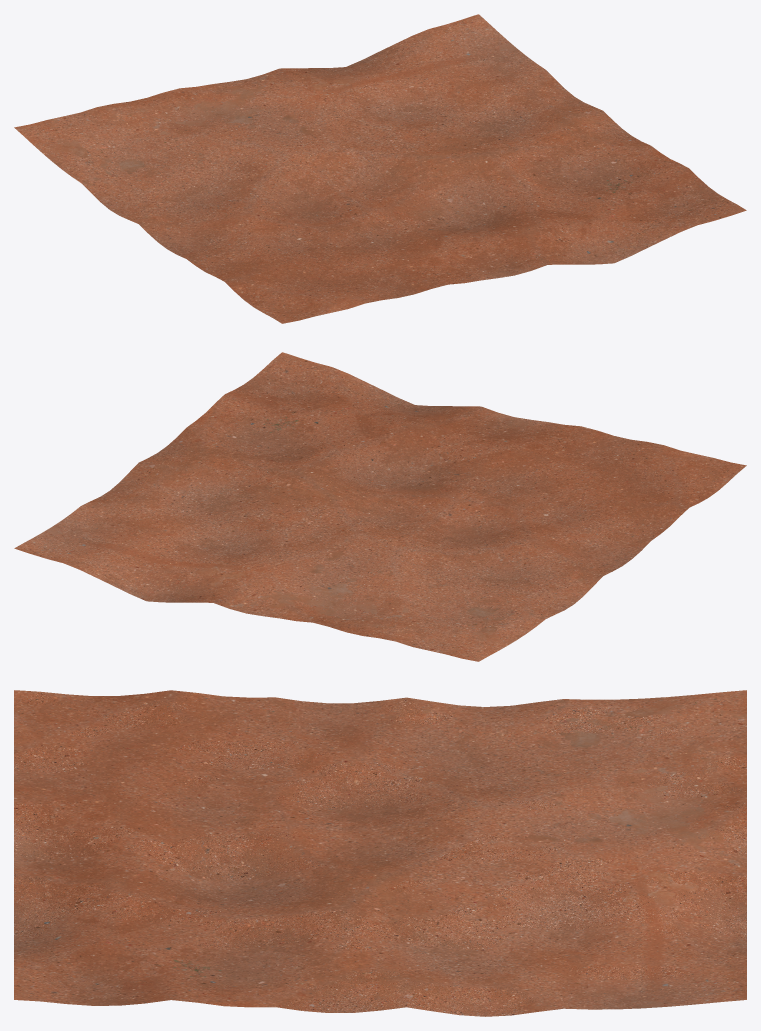
Rendered from Ground_flat_01_M01.fbx.
3 renders of one model, top to bottom at view 1: azimuth 30°, elevation 25°; view 2: azimuth 150°, elevation 25°; view 3: azimuth 270°, elevation 25°, orthographic. The views are drawn at different scales.
Visible parts, largest first — view 1: Ground_flat_01_M01_LOD0; view 2: Ground_flat_01_M01_LOD0; view 3: Ground_flat_01_M01_LOD0.
Part boxes in pixels (x1,y1,x2,y2): Ground_flat_01_M01_LOD0: [14, 14, 746, 323]; Ground_flat_01_M01_LOD0: [14, 352, 746, 661]; Ground_flat_01_M01_LOD0: [14, 690, 746, 1016].
Size of what is drawn, in the model's own units: 2000 by 90.18 by 2000.
